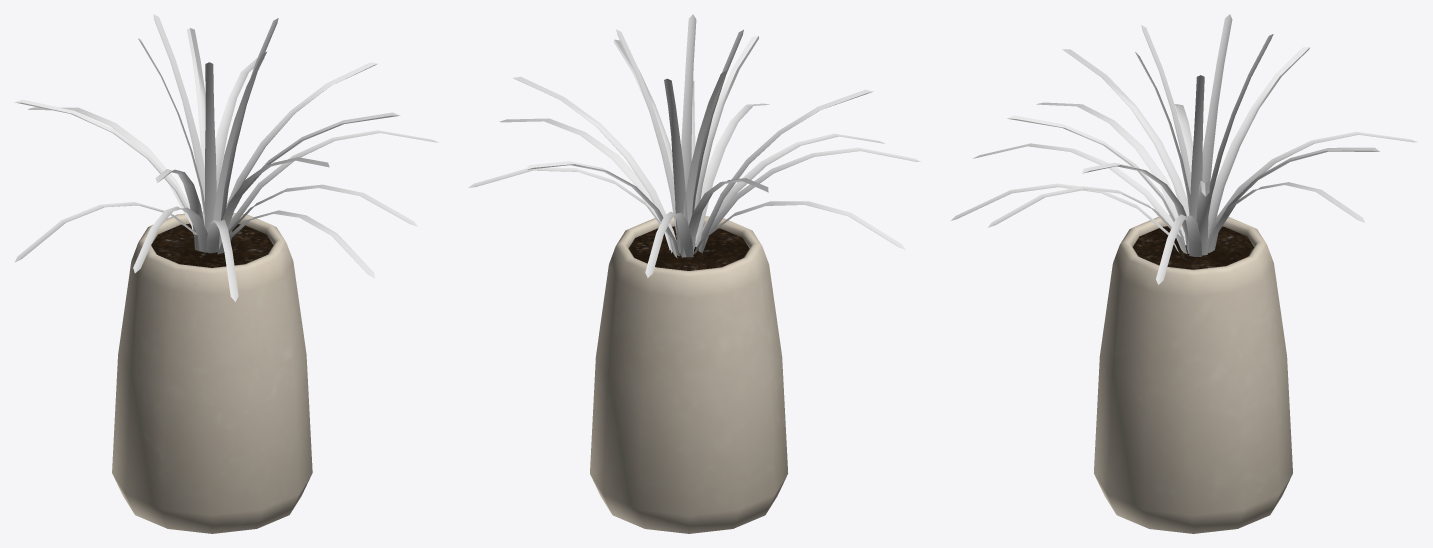
File: Plants_Pots_11.fbx
3 views of the same model, side by side, from view 1: azimuth 30°, elevation 25°; view 2: azimuth 150°, elevation 25°; view 3: azimuth 270°, elevation 25° (orthographic).
Visible parts, largest first — view 1: Cylinder.016; view 2: Cylinder.016; view 3: Cylinder.016.
Boxes of the visible parts, x1=… form: Cylinder.016: x1=14, y1=14, x2=438, y2=533; Cylinder.016: x1=468, y1=14, x2=921, y2=533; Cylinder.016: x1=951, y1=14, x2=1417, y2=533.
Bounding box in the file's own units: 29.24 × 31.39 × 28.52.
